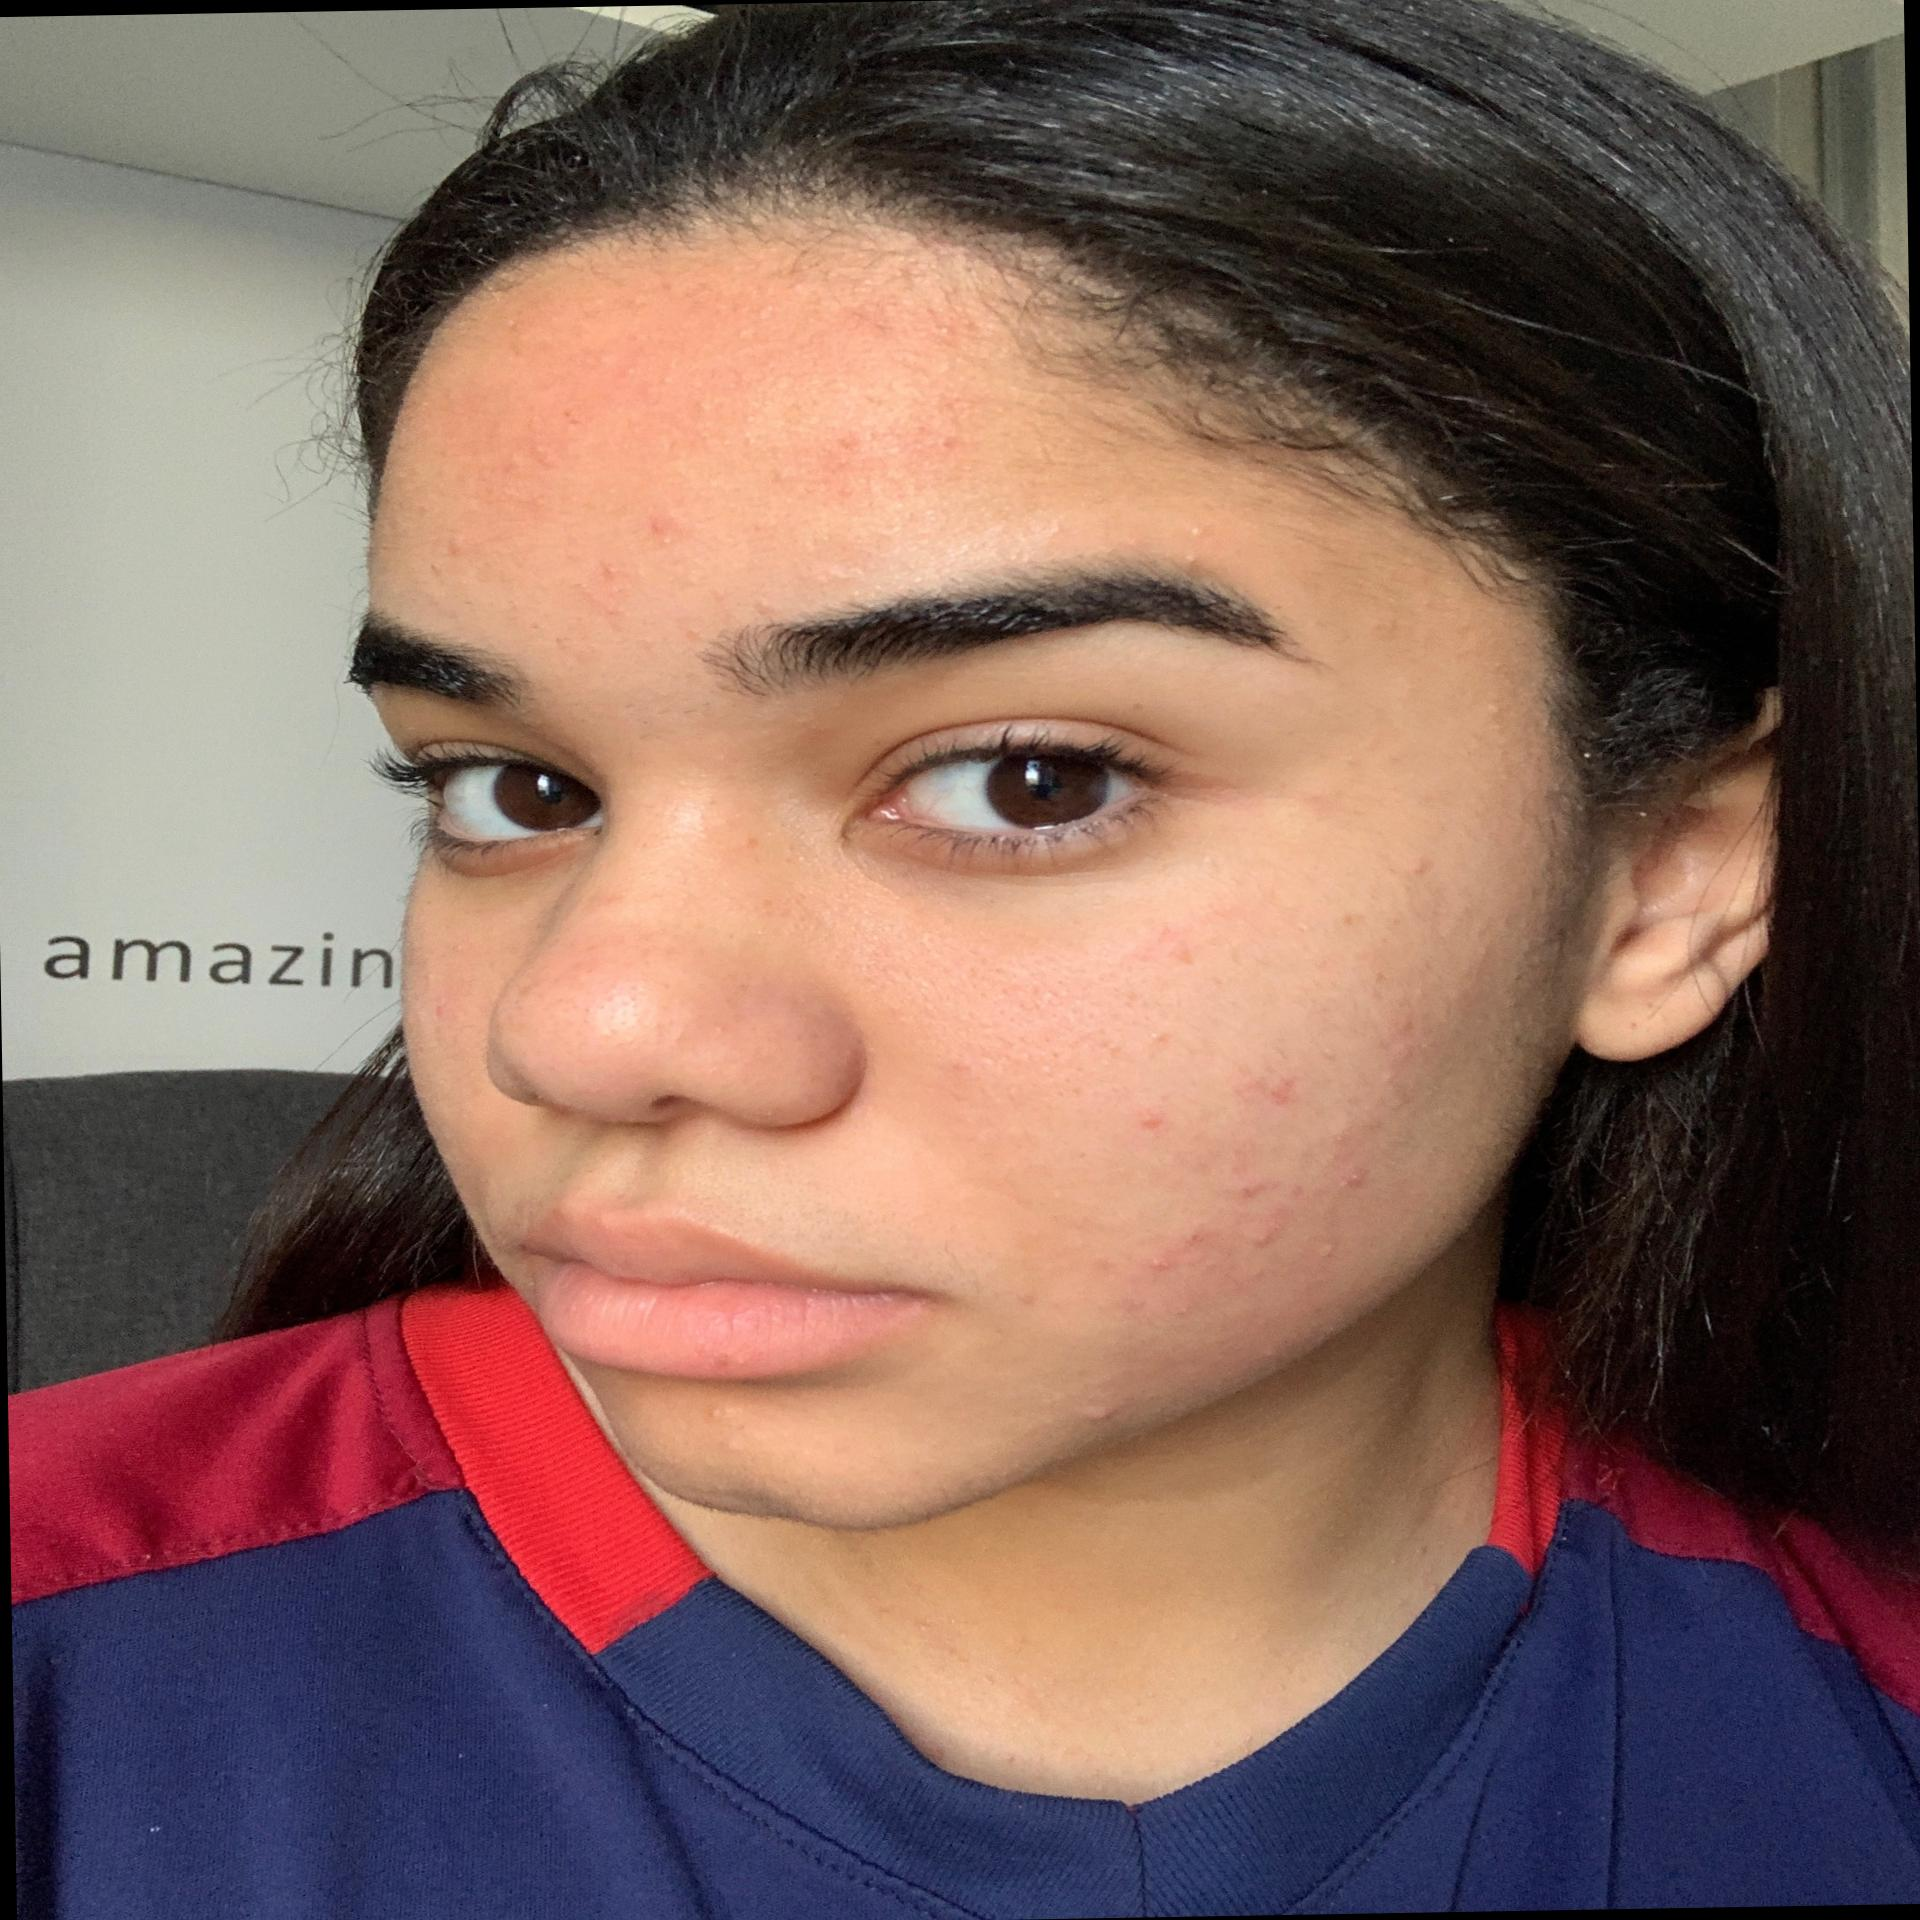Acne: (564, 563, 645, 628), (1245, 1060, 1324, 1111), (492, 434, 573, 480), (689, 1401, 758, 1454), (1171, 513, 1225, 570), (1152, 923, 1211, 974), (1073, 1398, 1131, 1438), (1407, 842, 1458, 888), (920, 429, 985, 464), (1335, 1162, 1384, 1208), (501, 318, 547, 367), (635, 503, 684, 545), (1387, 1013, 1424, 1067), (1011, 1282, 1065, 1317), (1245, 1217, 1294, 1252), (1143, 1023, 1197, 1055), (816, 466, 867, 499), (1312, 1220, 1349, 1264), (1108, 1294, 1153, 1327), (1125, 1104, 1173, 1136), (610, 290, 663, 318), (1324, 904, 1377, 932), (735, 585, 784, 615), (944, 311, 988, 345), (654, 373, 700, 404), (434, 526, 482, 556), (1282, 1175, 1320, 1210), (830, 424, 870, 457), (1218, 1173, 1261, 1204), (1312, 1036, 1354, 1067), (557, 406, 598, 438), (1319, 1122, 1361, 1150), (582, 343, 621, 373), (1160, 1299, 1208, 1322), (1182, 1220, 1210, 1257), (1132, 1252, 1175, 1275), (1238, 1266, 1276, 1291), (744, 302, 772, 325)
Blackhead: (508, 974, 679, 1067)
Englarged Pores: (869, 932, 1125, 1101)
